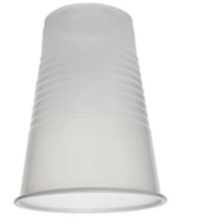glass: (9, 0, 170, 217)
